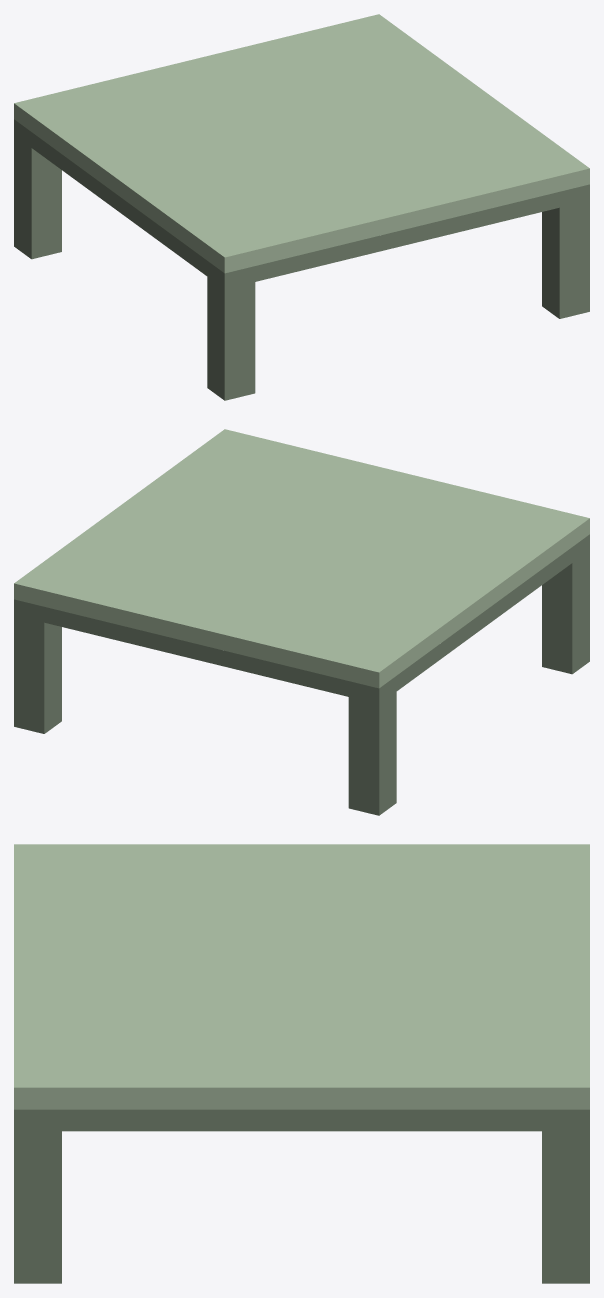
The model's file is mesa_consulta_archivo_01.glb.
3 views of the same model, one above another, from view 1: azimuth 30°, elevation 25°; view 2: azimuth 150°, elevation 25°; view 3: azimuth 270°, elevation 25° (orthographic). The views are drawn at different scales.
Visible parts, largest first — view 1: mesa_consulta_archivo; view 2: mesa_consulta_archivo; view 3: mesa_consulta_archivo.
Boxes of the visible parts, box(x1,y1,x2,y2) form: mesa_consulta_archivo: box(14, 14, 589, 400); mesa_consulta_archivo: box(14, 429, 589, 815); mesa_consulta_archivo: box(14, 844, 589, 1283).
Bounding box in the file's own units: 2 × 0.75 × 2.
